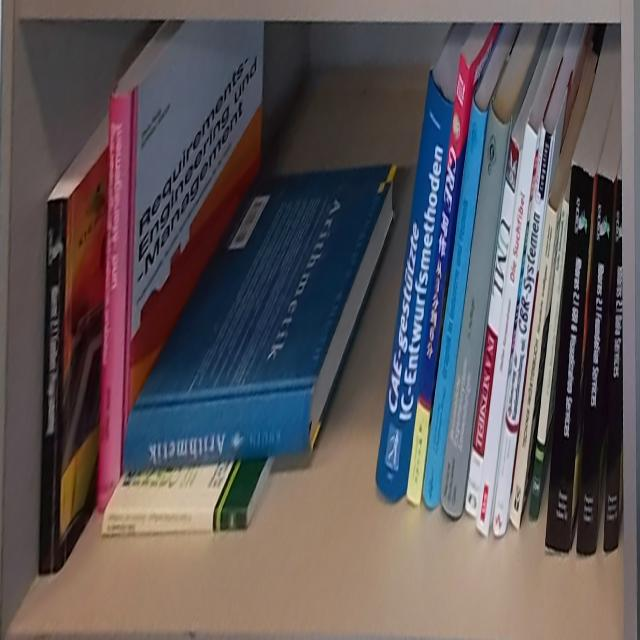Book Spine: (376, 71, 455, 505), (406, 51, 469, 505), (441, 105, 509, 520), (423, 93, 487, 510), (492, 118, 555, 538), (478, 121, 540, 536), (465, 134, 521, 513), (545, 161, 594, 557), (509, 200, 559, 531), (124, 388, 312, 473), (577, 171, 616, 558), (98, 86, 132, 512), (530, 195, 571, 520), (39, 195, 68, 575), (604, 179, 623, 552), (101, 510, 246, 535)
